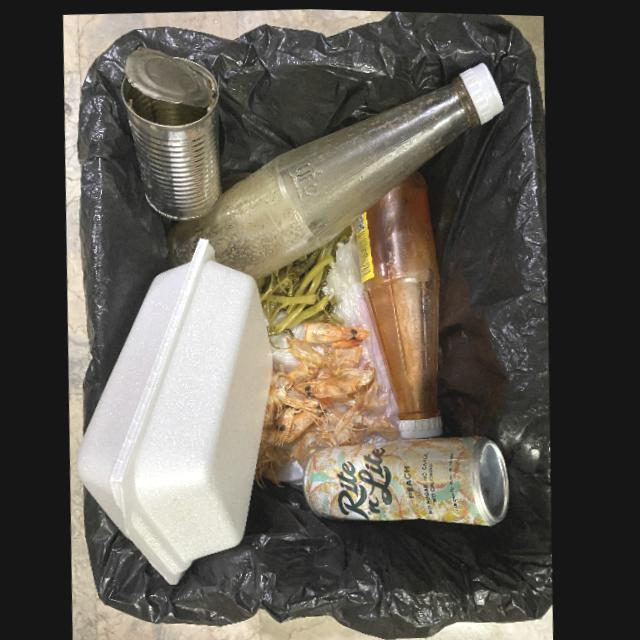biowaste: (259, 337, 404, 487), (259, 227, 353, 334), (305, 319, 373, 346)
glass: (171, 59, 506, 276), (357, 167, 446, 436)
metal: (307, 432, 513, 523), (122, 43, 223, 219)
styrofoam: (80, 235, 276, 584)
